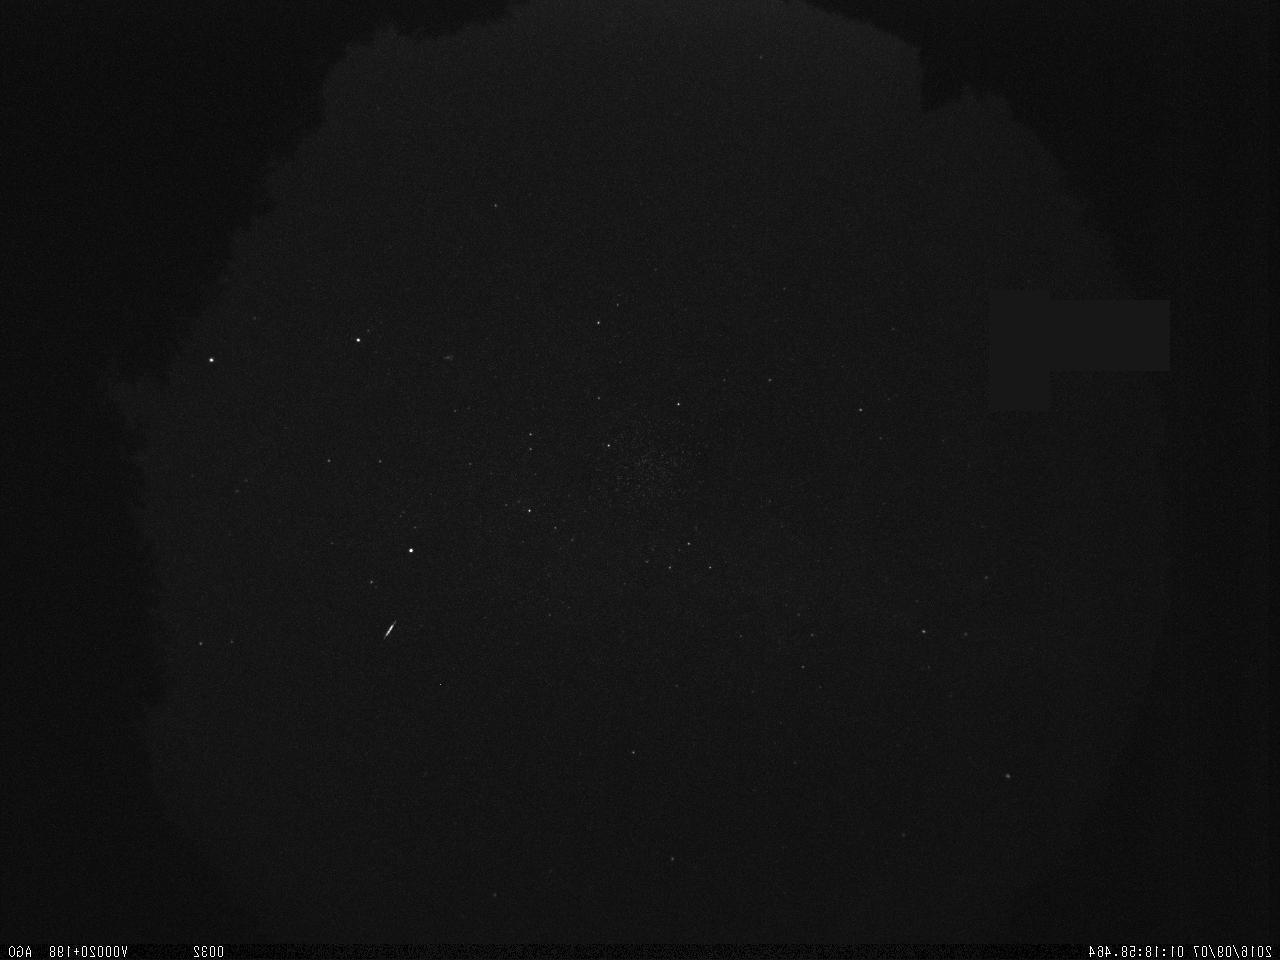meteor: (375, 618, 399, 642)
